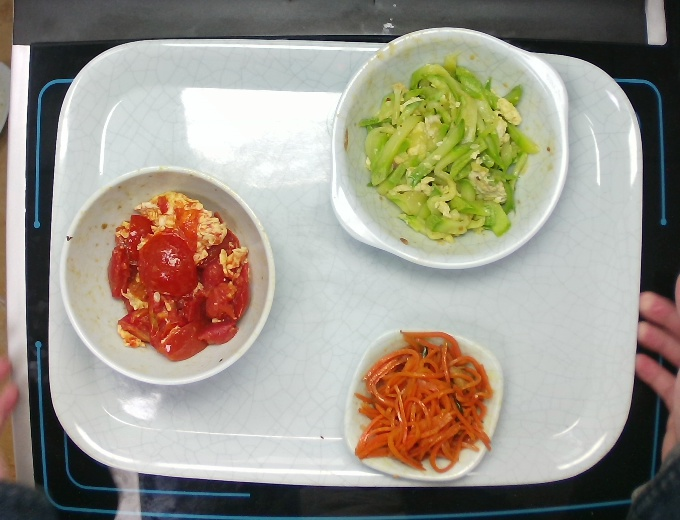JYsf-Fan_Wan: (57, 166, 274, 385)
JYsf-Shuang_Er_Wan: (322, 26, 575, 275)
JYsf-Si_Fang_Die: (339, 321, 505, 484)
